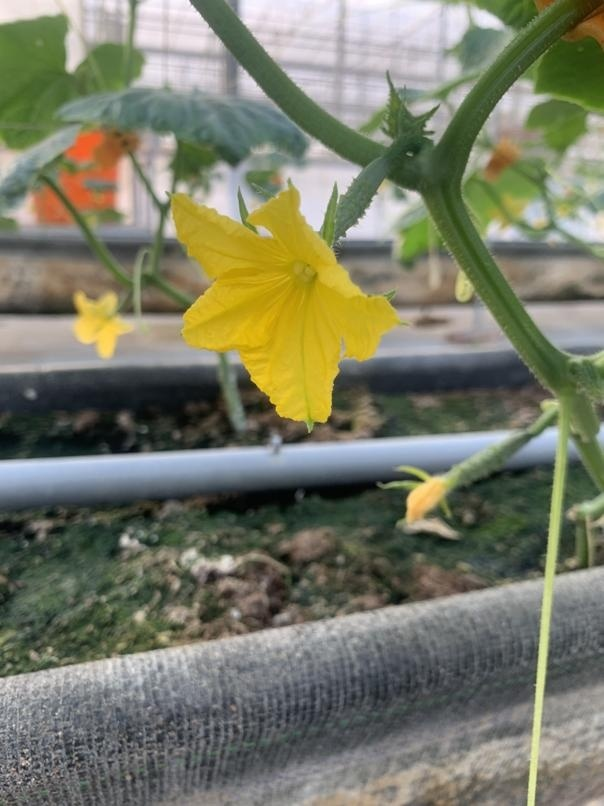flowering: (155, 135, 421, 441)
